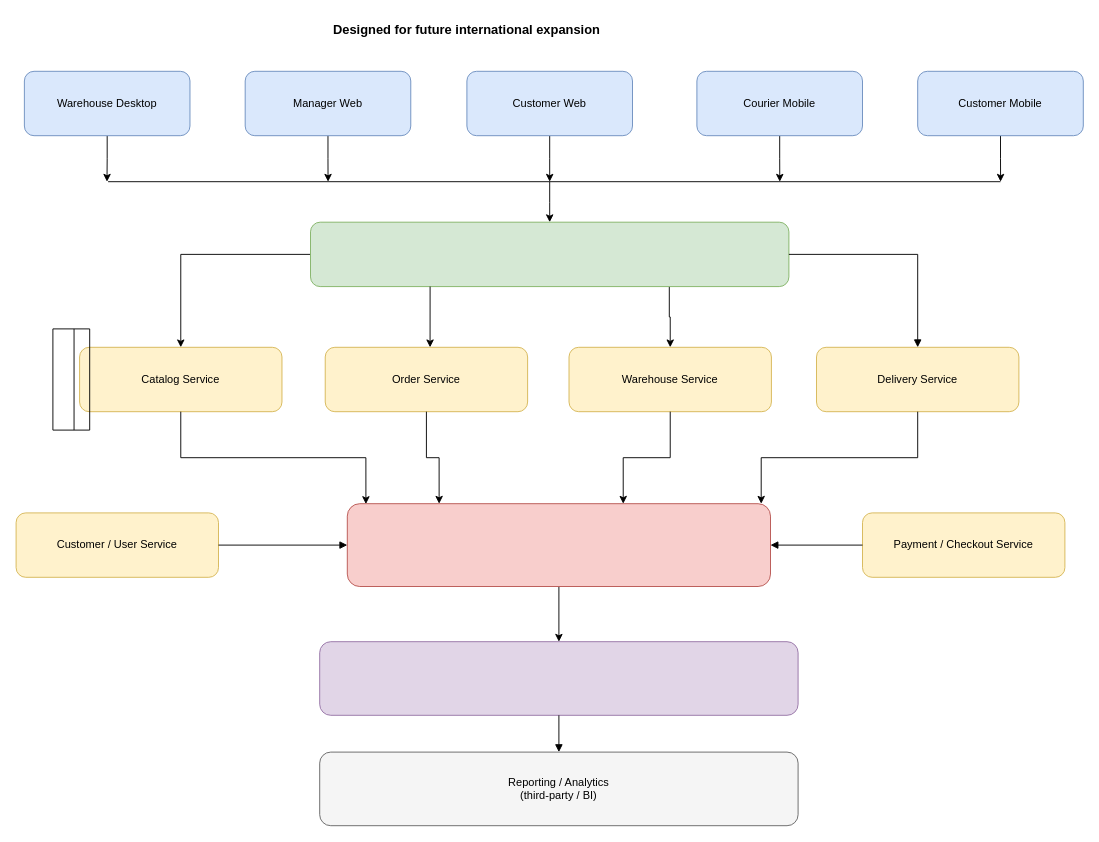
The diagram is 1099 pixels wide and 842 high, and some of its shapes have lost their labels. The shapes that lost their labels are listed below. From the top down, each one's box as (x1, y1, x2, y2) in pixels, then its label:
(310, 221, 789, 287): API Gateway / BFF
(52, 328, 90, 430): Business layer
(346, 503, 770, 586): Shared / Domain Data (SQL / service DBs)
(319, 641, 798, 715): Event Bus / Messaging
